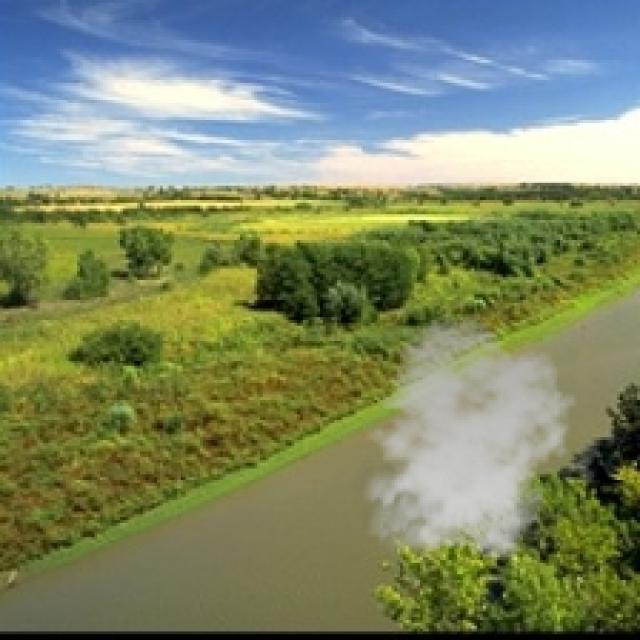Smoke: (352, 317, 577, 569)
